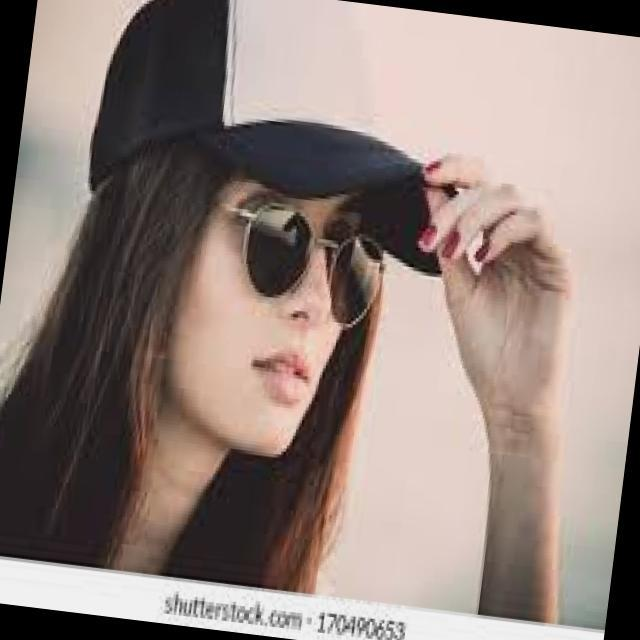cap: (75, 0, 519, 289)
